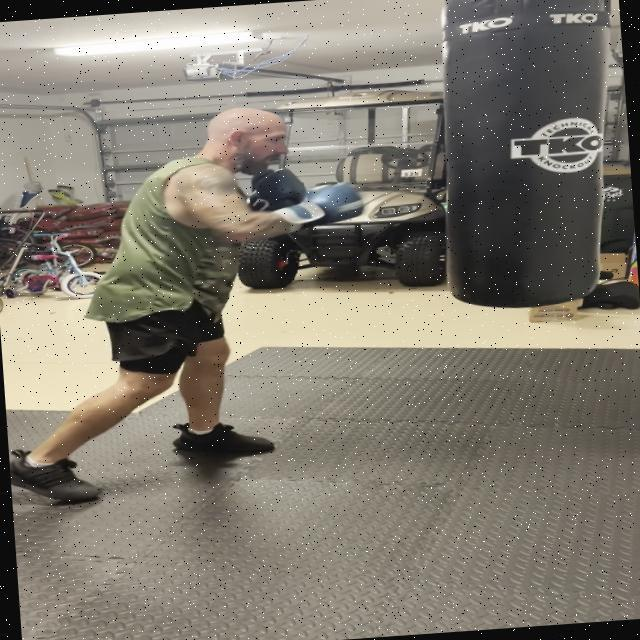punch: (120, 76, 380, 264)
